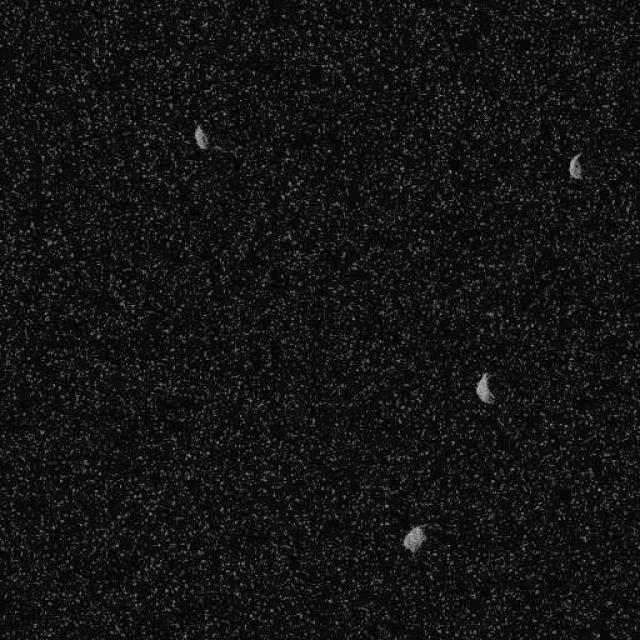D2: (474, 370, 495, 404), (402, 525, 426, 554), (192, 122, 210, 150), (568, 151, 582, 180)
